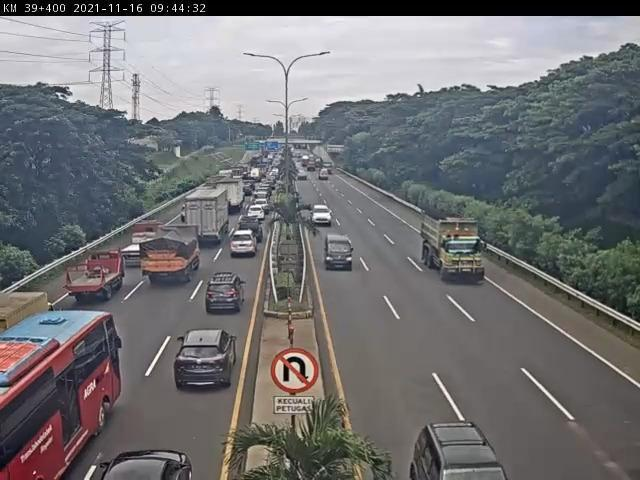car: (175, 331, 237, 393), (207, 274, 244, 313), (325, 234, 355, 270), (229, 234, 259, 261), (236, 224, 263, 251), (311, 203, 333, 227), (248, 206, 267, 221)
truck: (421, 214, 490, 280), (137, 230, 197, 288), (68, 251, 126, 300), (184, 191, 227, 248), (118, 222, 164, 269), (213, 178, 245, 214)
